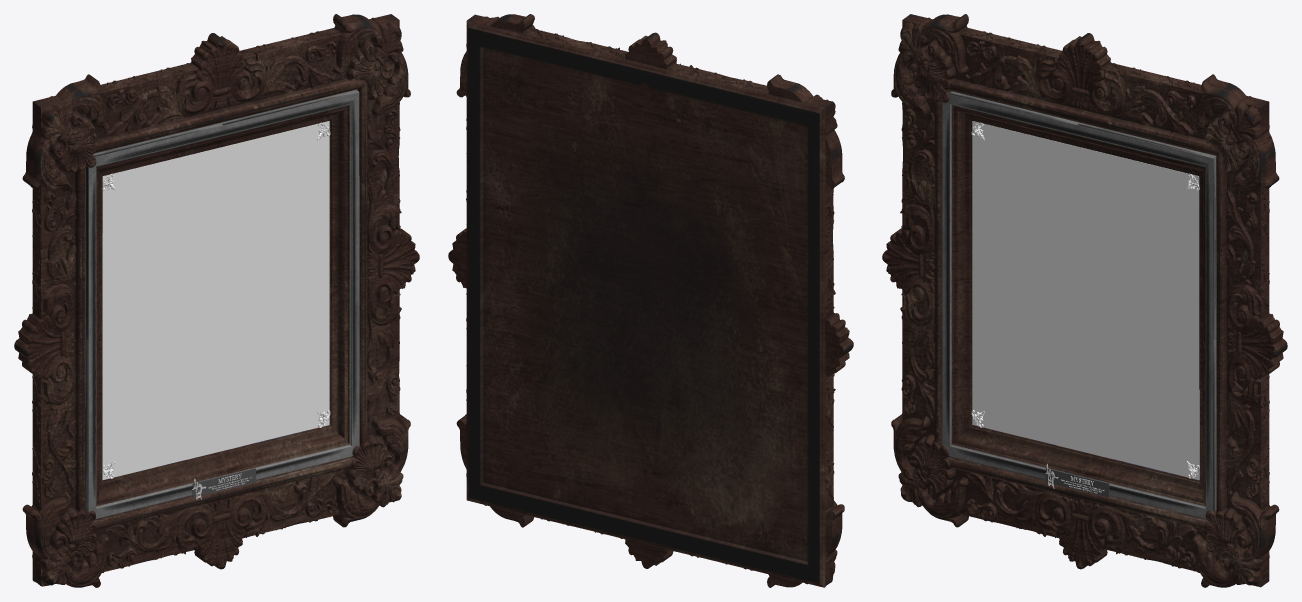
3 views of the same model, side by side, from view 1: azimuth 30°, elevation 25°; view 2: azimuth 150°, elevation 25°; view 3: azimuth 330°, elevation 25° (orthographic).
Parts seen in each view (by area): view 1: Picture; view 2: Picture; view 3: Picture.
Part boxes in pixels (x1,y1,x2,y2): Picture: [14, 14, 419, 587]; Picture: [448, 14, 853, 587]; Picture: [882, 14, 1287, 587].
Bounding box in the file's own units: 4.49 × 5.74 × 0.3246.
Materials: 5 (2 with a texture image).
